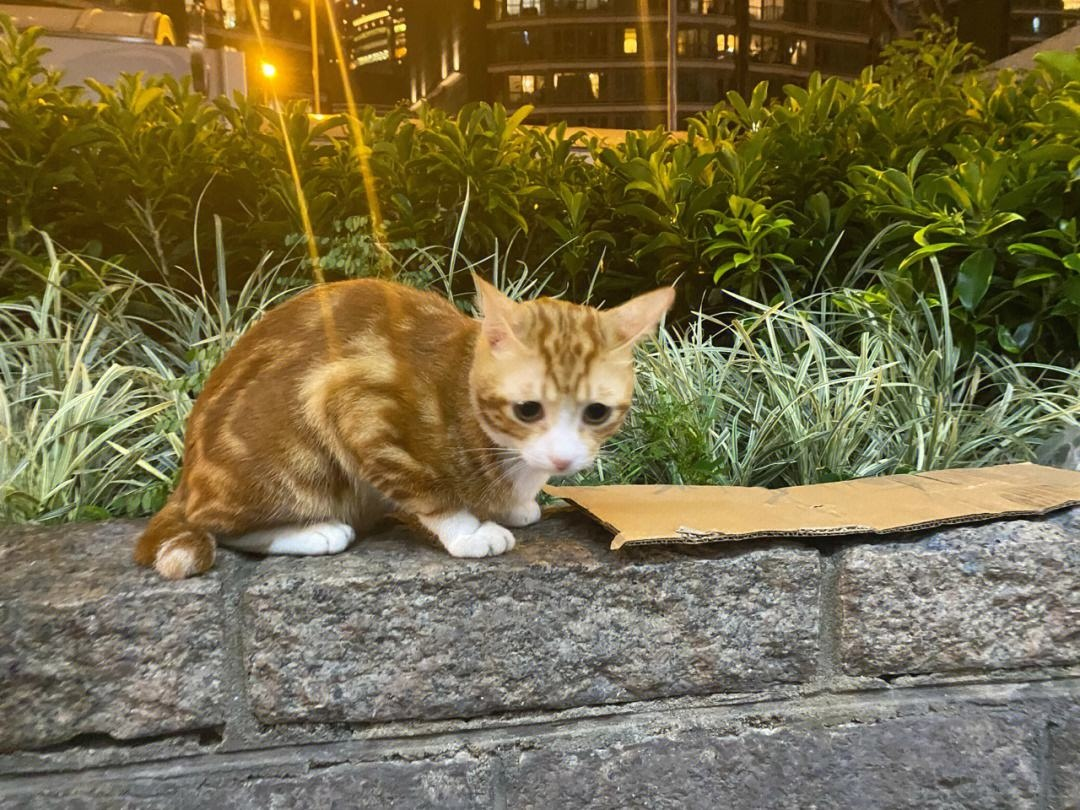cat: (135, 270, 677, 583)
